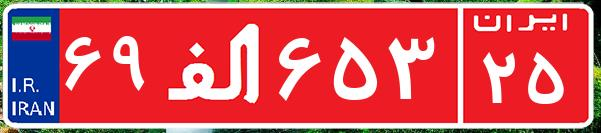2: (475, 38, 525, 113)
3: (385, 28, 445, 110)
5: (330, 28, 385, 110), (525, 38, 570, 115)
6: (273, 28, 330, 110), (57, 26, 110, 107)
9: (110, 28, 158, 105)
الف: (158, 15, 273, 115)
